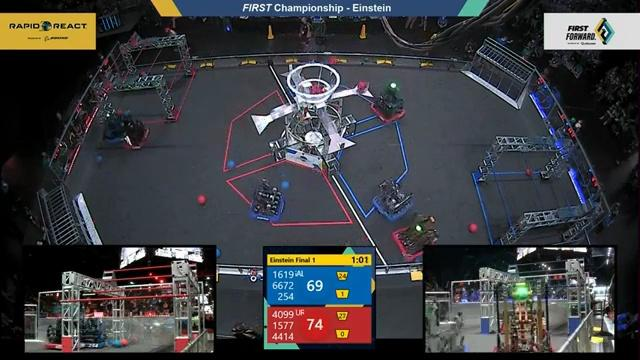robot: (490, 282, 556, 353), (426, 296, 471, 353), (391, 213, 437, 261), (372, 177, 413, 223), (370, 81, 406, 124), (247, 184, 286, 223), (99, 112, 130, 147), (121, 119, 150, 152), (77, 318, 106, 350), (45, 319, 63, 350)
